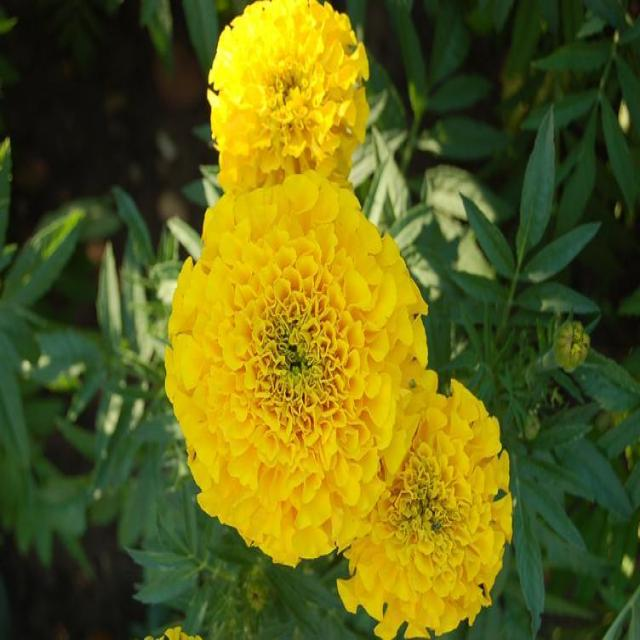marigold: (148, 151, 516, 640)
